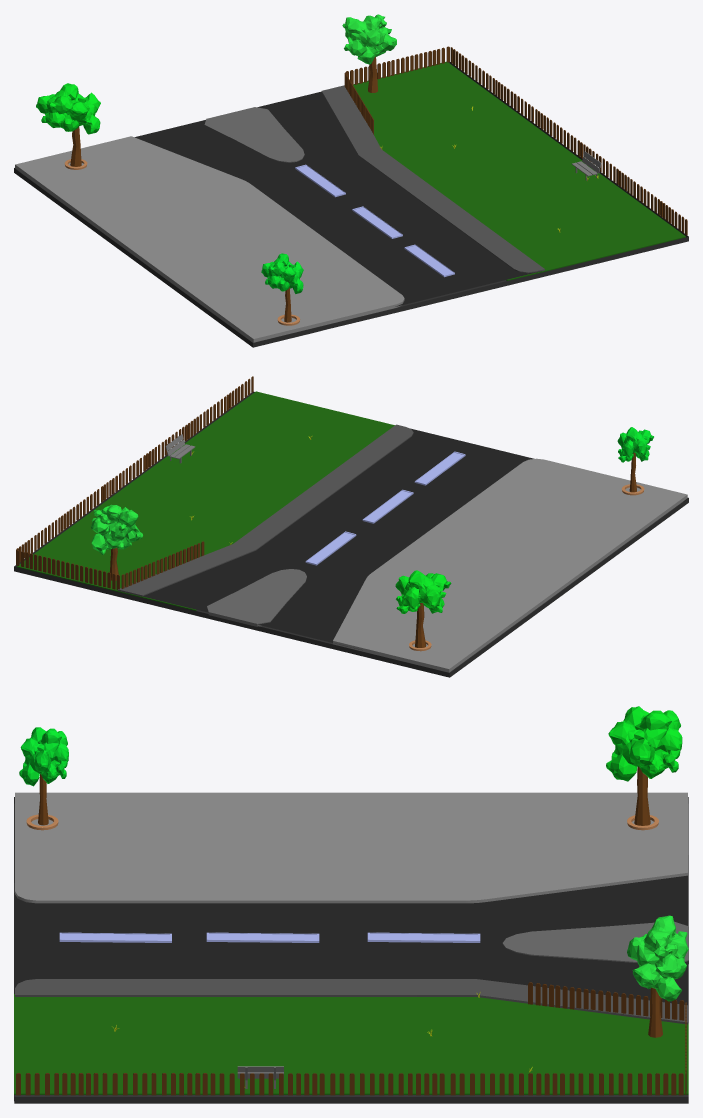
File: background.gltf
The picture shows the model from 3 angles, top to bottom: view 1: azimuth 30°, elevation 25°; view 2: azimuth 150°, elevation 25°; view 3: azimuth 270°, elevation 25°; orthographic projection. The views are drawn at different scales.
Parts seen in each view (by area): view 1: node_id943, node_id931, node_id917, node_id939, node_id1011, node_id933, node_id941, node_id995, node_id1000, node_id1005, Plane.001, Plane.002 (+1 smaller); view 2: node_id943, node_id931, node_id917, node_id1011, node_id939, node_id933, node_id941, node_id1000, node_id995, node_id1005, Plane.001, Plane.003 (+1 smaller); view 3: node_id943, node_id931, node_id917, node_id1011, node_id939, node_id933, node_id995, node_id941, node_id1000, node_id1005, Plane.001, Plane.003 (+2 smaller).
Boxes of the visible parts, x1,y1,x2,y2 form: node_id943: [15, 136, 404, 342]; node_id931: [353, 61, 685, 280]; node_id917: [134, 91, 541, 306]; node_id939: [321, 85, 544, 273]; node_id1011: [344, 46, 687, 235]; node_id933: [14, 62, 688, 347]; node_id941: [204, 107, 304, 162]; node_id995: [36, 83, 100, 134]; node_id1000: [342, 14, 396, 64]; node_id1005: [261, 253, 303, 293]; Plane.001: [352, 206, 402, 238]; Plane.002: [404, 244, 454, 277]; node_id943: [333, 458, 687, 672]; node_id931: [17, 391, 394, 610]; node_id917: [118, 428, 534, 650]; node_id1011: [16, 376, 253, 590]; node_id939: [117, 424, 413, 596]; node_id933: [14, 391, 688, 677]; node_id941: [207, 569, 306, 626]; node_id1000: [90, 504, 142, 554]; node_id995: [395, 570, 451, 613]; node_id1005: [617, 427, 653, 462]; Plane.001: [362, 489, 413, 523]; Plane.003: [305, 531, 356, 565]; node_id943: [15, 792, 687, 903]; node_id931: [14, 994, 688, 1094]; node_id917: [14, 855, 688, 1023]; node_id1011: [16, 982, 686, 1095]; node_id939: [15, 979, 687, 1024]; node_id933: [14, 797, 688, 1103]; node_id995: [606, 706, 682, 781]; node_id941: [502, 921, 688, 963]; node_id1000: [627, 915, 688, 1001]; node_id1005: [19, 727, 68, 786]; Plane.001: [206, 932, 319, 942]; Plane.003: [367, 932, 480, 942].
Size of the model in its own units: 0.0264 by 0.00501 by 0.0251.
